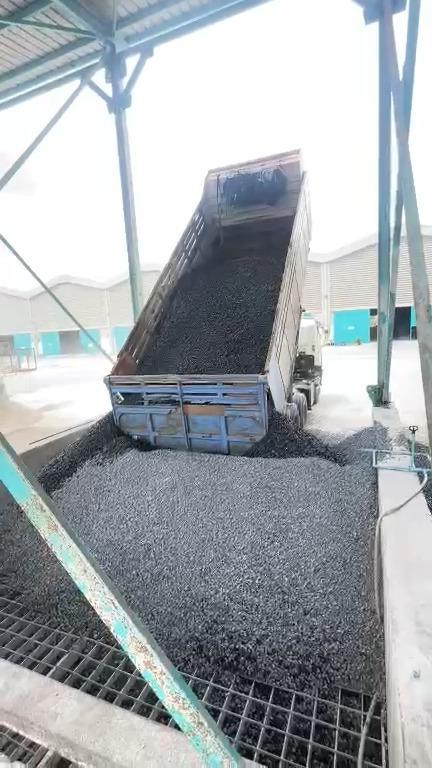gravel: (39, 383, 395, 687), (137, 262, 276, 378), (1, 511, 99, 642)
sand: (1, 400, 76, 449)
